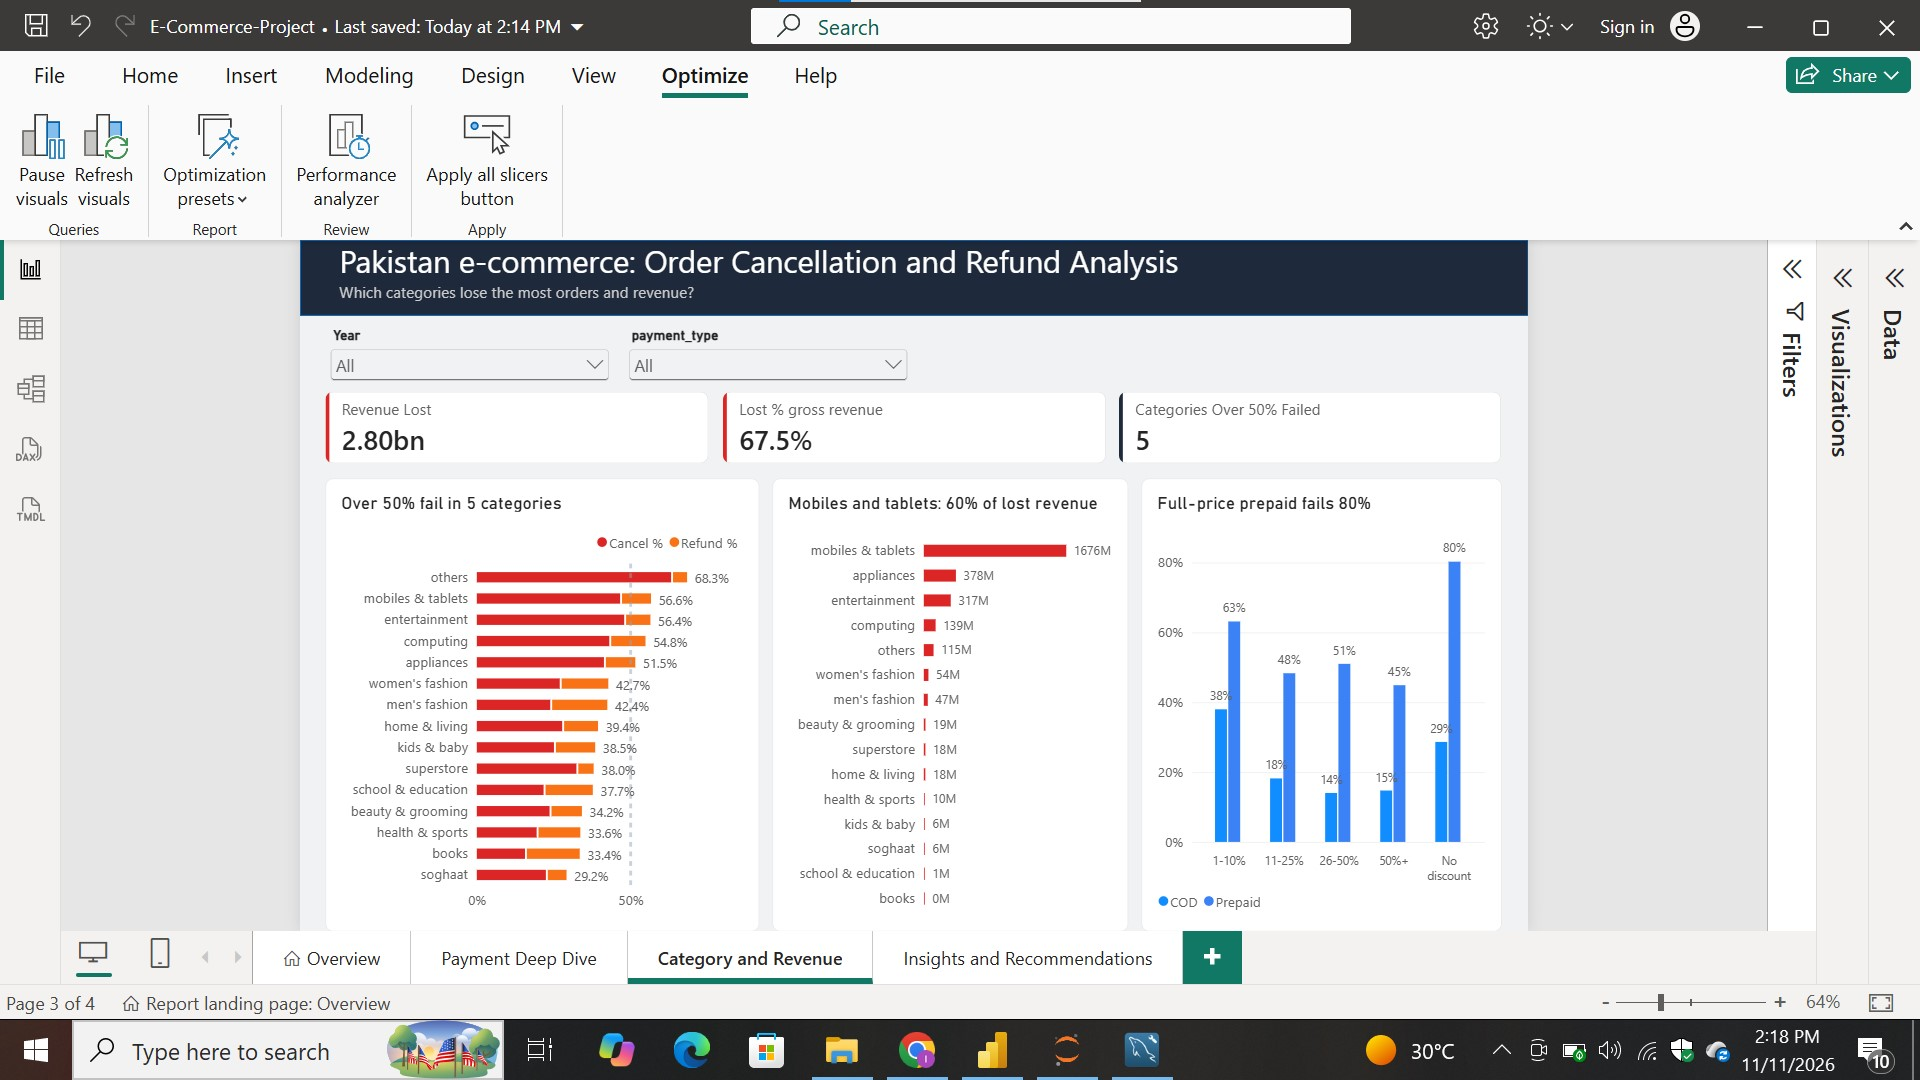

The dashboard page shown, as its layout file describes it:
{"tool":"powerbi","page":{"name":"Category and Revenue","canvas":[1280,720],"ordinal":2},"visuals":[{"type":"shape","box":[0,0,1280,79],"z":0},{"type":"textbox","box":[23.4,0,1256.6,79.7],"z":1000},{"type":"slicer","fields":{"Values":["ecommerce_clean.year"]},"box":[26.6,90.7,300,85],"z":2000},{"type":"slicer","fields":{"Values":["ecommerce_clean.payment_type"]},"box":[337.6,90.7,300,85],"z":3000},{"type":"cardVisual","fields":{"Data":["ecommerce_clean.Revenue Lost"]},"box":[26,158,399,75],"z":3001},{"type":"cardVisual","fields":{"Data":["ecommerce_clean.Lost %"]},"box":[440,158,399,75],"z":3002},{"type":"cardVisual","fields":{"Data":["ecommerce_clean.Categories Over 50% Failed"]},"box":[854,158,398,75],"z":3003},{"type":"barChart","title":"Over 50% fail in 5 categories","fields":{"Category":["ecommerce_clean.category_name_1"],"Y":["ecommerce_clean.Cancel %","ecommerce_clean.Refund %"]},"box":[26.6,248.5,452,472],"z":3004},{"type":"clusteredBarChart","title":"Mobiles and tablets: 60% of lost revenue","fields":{"Category":["ecommerce_clean.category_name_1"],"Y":["ecommerce_clean.Revenue Lost"]},"box":[492.3,248.5,370.4,472],"z":3005},{"type":"clusteredColumnChart","title":"Full-price prepaid fails 80%","fields":{"Category":["ecommerce_clean.discount_band"],"Series":["ecommerce_clean.payment_type"],"Y":["ecommerce_clean.Failed %"]},"box":[876.8,248.5,375.1,472],"z":3006}]}

Visuals, with their boxes on the page's 1280x720 design canvas (x1, y1, x2, y2). These are canvas units, not pixel positions in the 1920x1080 screenshot, which may show the page scaled, cropped or inside an application window:
shape: bbox=[0, 0, 1280, 79]
textbox: bbox=[23, 0, 1280, 80]
slicer - ecommerce_clean.year: bbox=[27, 91, 327, 176]
slicer - ecommerce_clean.payment_type: bbox=[338, 91, 638, 176]
cardVisual - ecommerce_clean.Revenue Lost: bbox=[26, 158, 425, 233]
cardVisual - ecommerce_clean.Lost %: bbox=[440, 158, 839, 233]
cardVisual - ecommerce_clean.Categories Over 50% Failed: bbox=[854, 158, 1252, 233]
"Over 50% fail in 5 categories" barChart: bbox=[27, 248, 479, 720]
"Mobiles and tablets: 60% of lost revenue" clusteredBarChart: bbox=[492, 248, 863, 720]
"Full-price prepaid fails 80%" clusteredColumnChart: bbox=[877, 248, 1252, 720]
